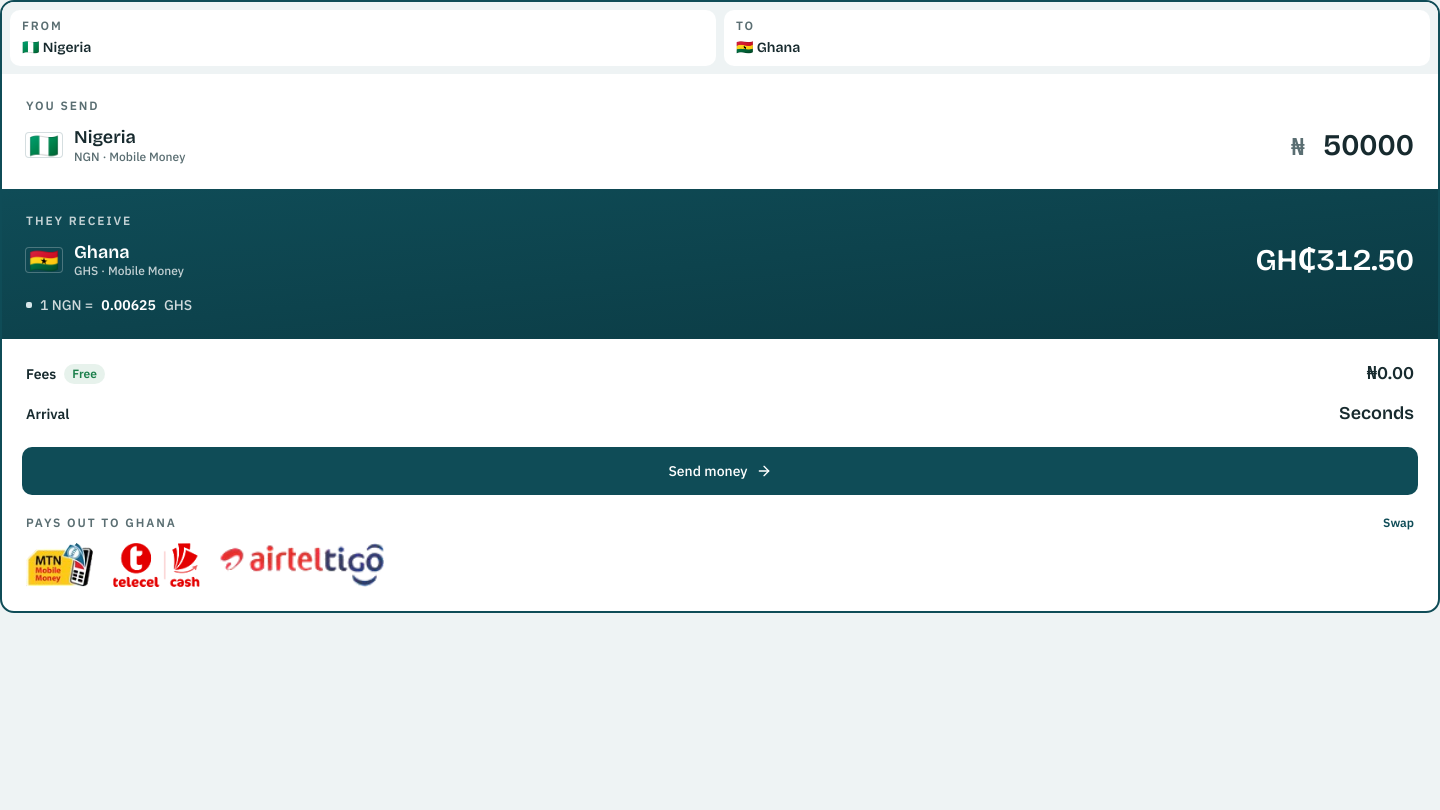
it: RateSelector › recalculates when the sending country changes
The width and height of the screenshot is (1440, 810).
Select "🇰🇪 Kenya" in the dropdown labelled "FROM" at (363, 48), box [22, 38, 704, 58]
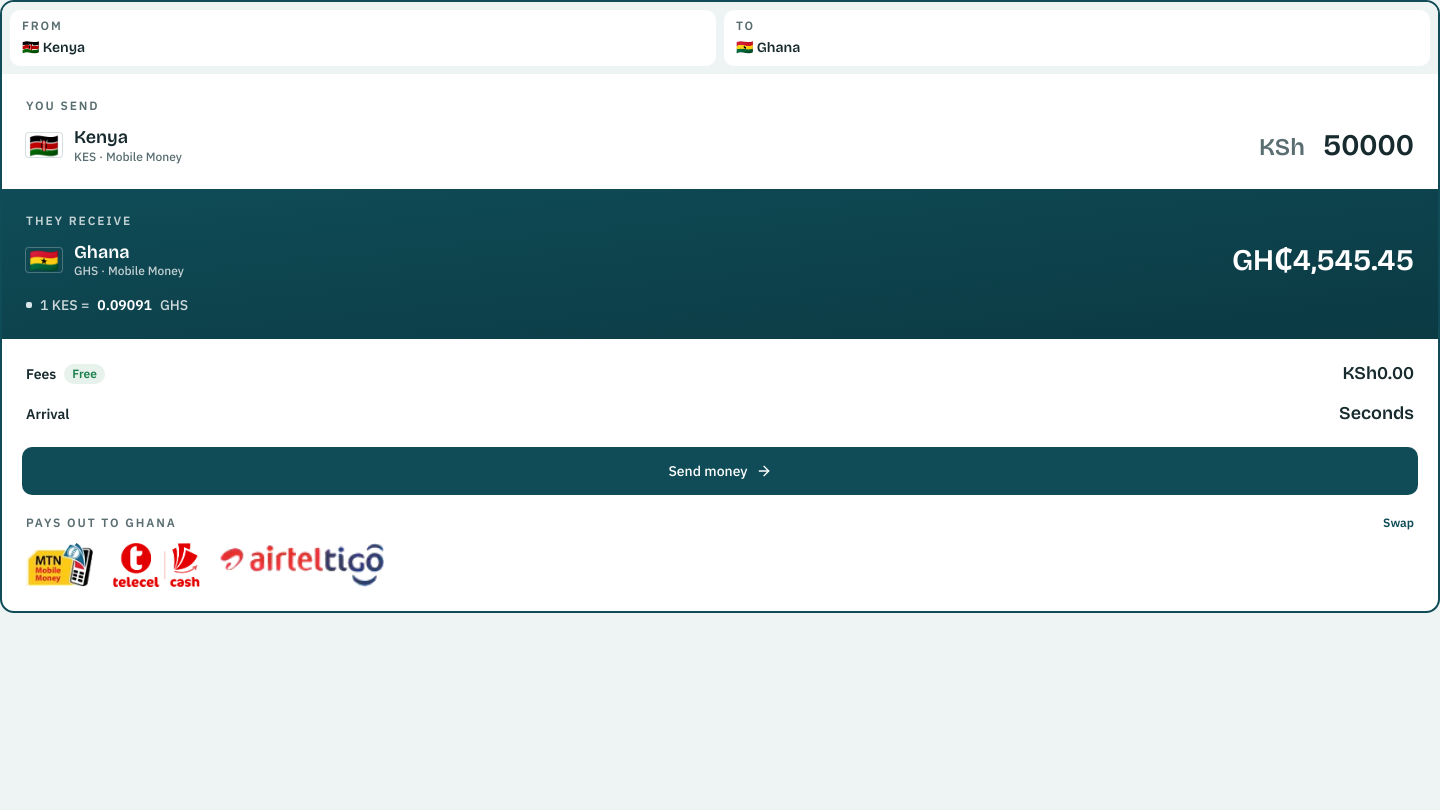
Result: the text "1 KES =" is shown at [40, 296, 89, 314]
Result: the text "GH₵4,545.45" is shown at [1232, 242, 1414, 278]
